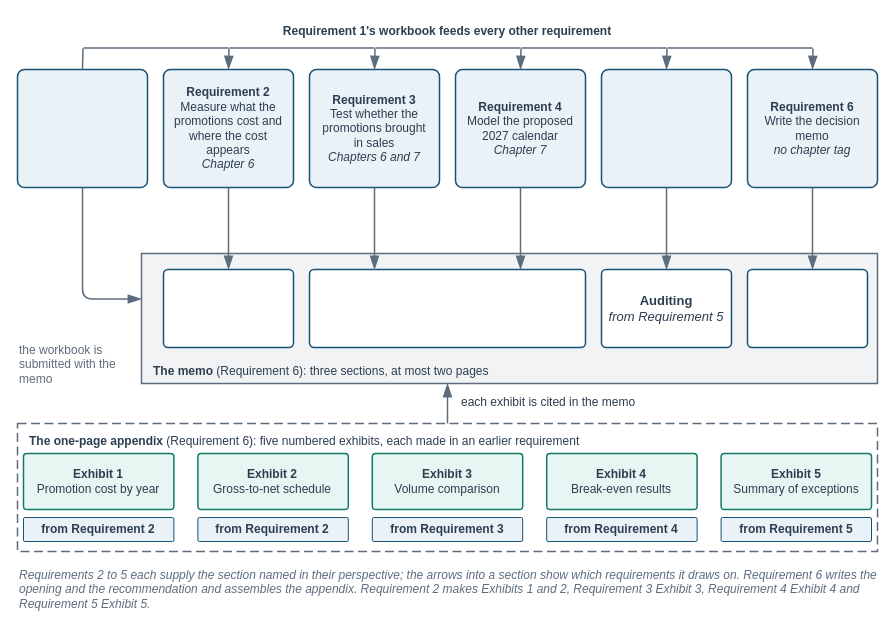
Some shapes in this 896 by 630 pixel diagram are drawn without their labels. The shapes that lost their labels are listed below. From the top down, each one's box as (x1, y1, x2, y2) in pixels, then its label:
(16, 68, 148, 188): Requirement 1 Build and validate the case workbook Chapters 4 and 5
(600, 68, 732, 188): Requirement 5 Test the controls over promotions Chapter 8
(162, 268, 294, 348): Financial reporting from Requirement 2
(308, 268, 586, 348): Managerial accounting from Requirements 3 and 4
(746, 268, 868, 348): Opening and recommendation written in Requirement 6
